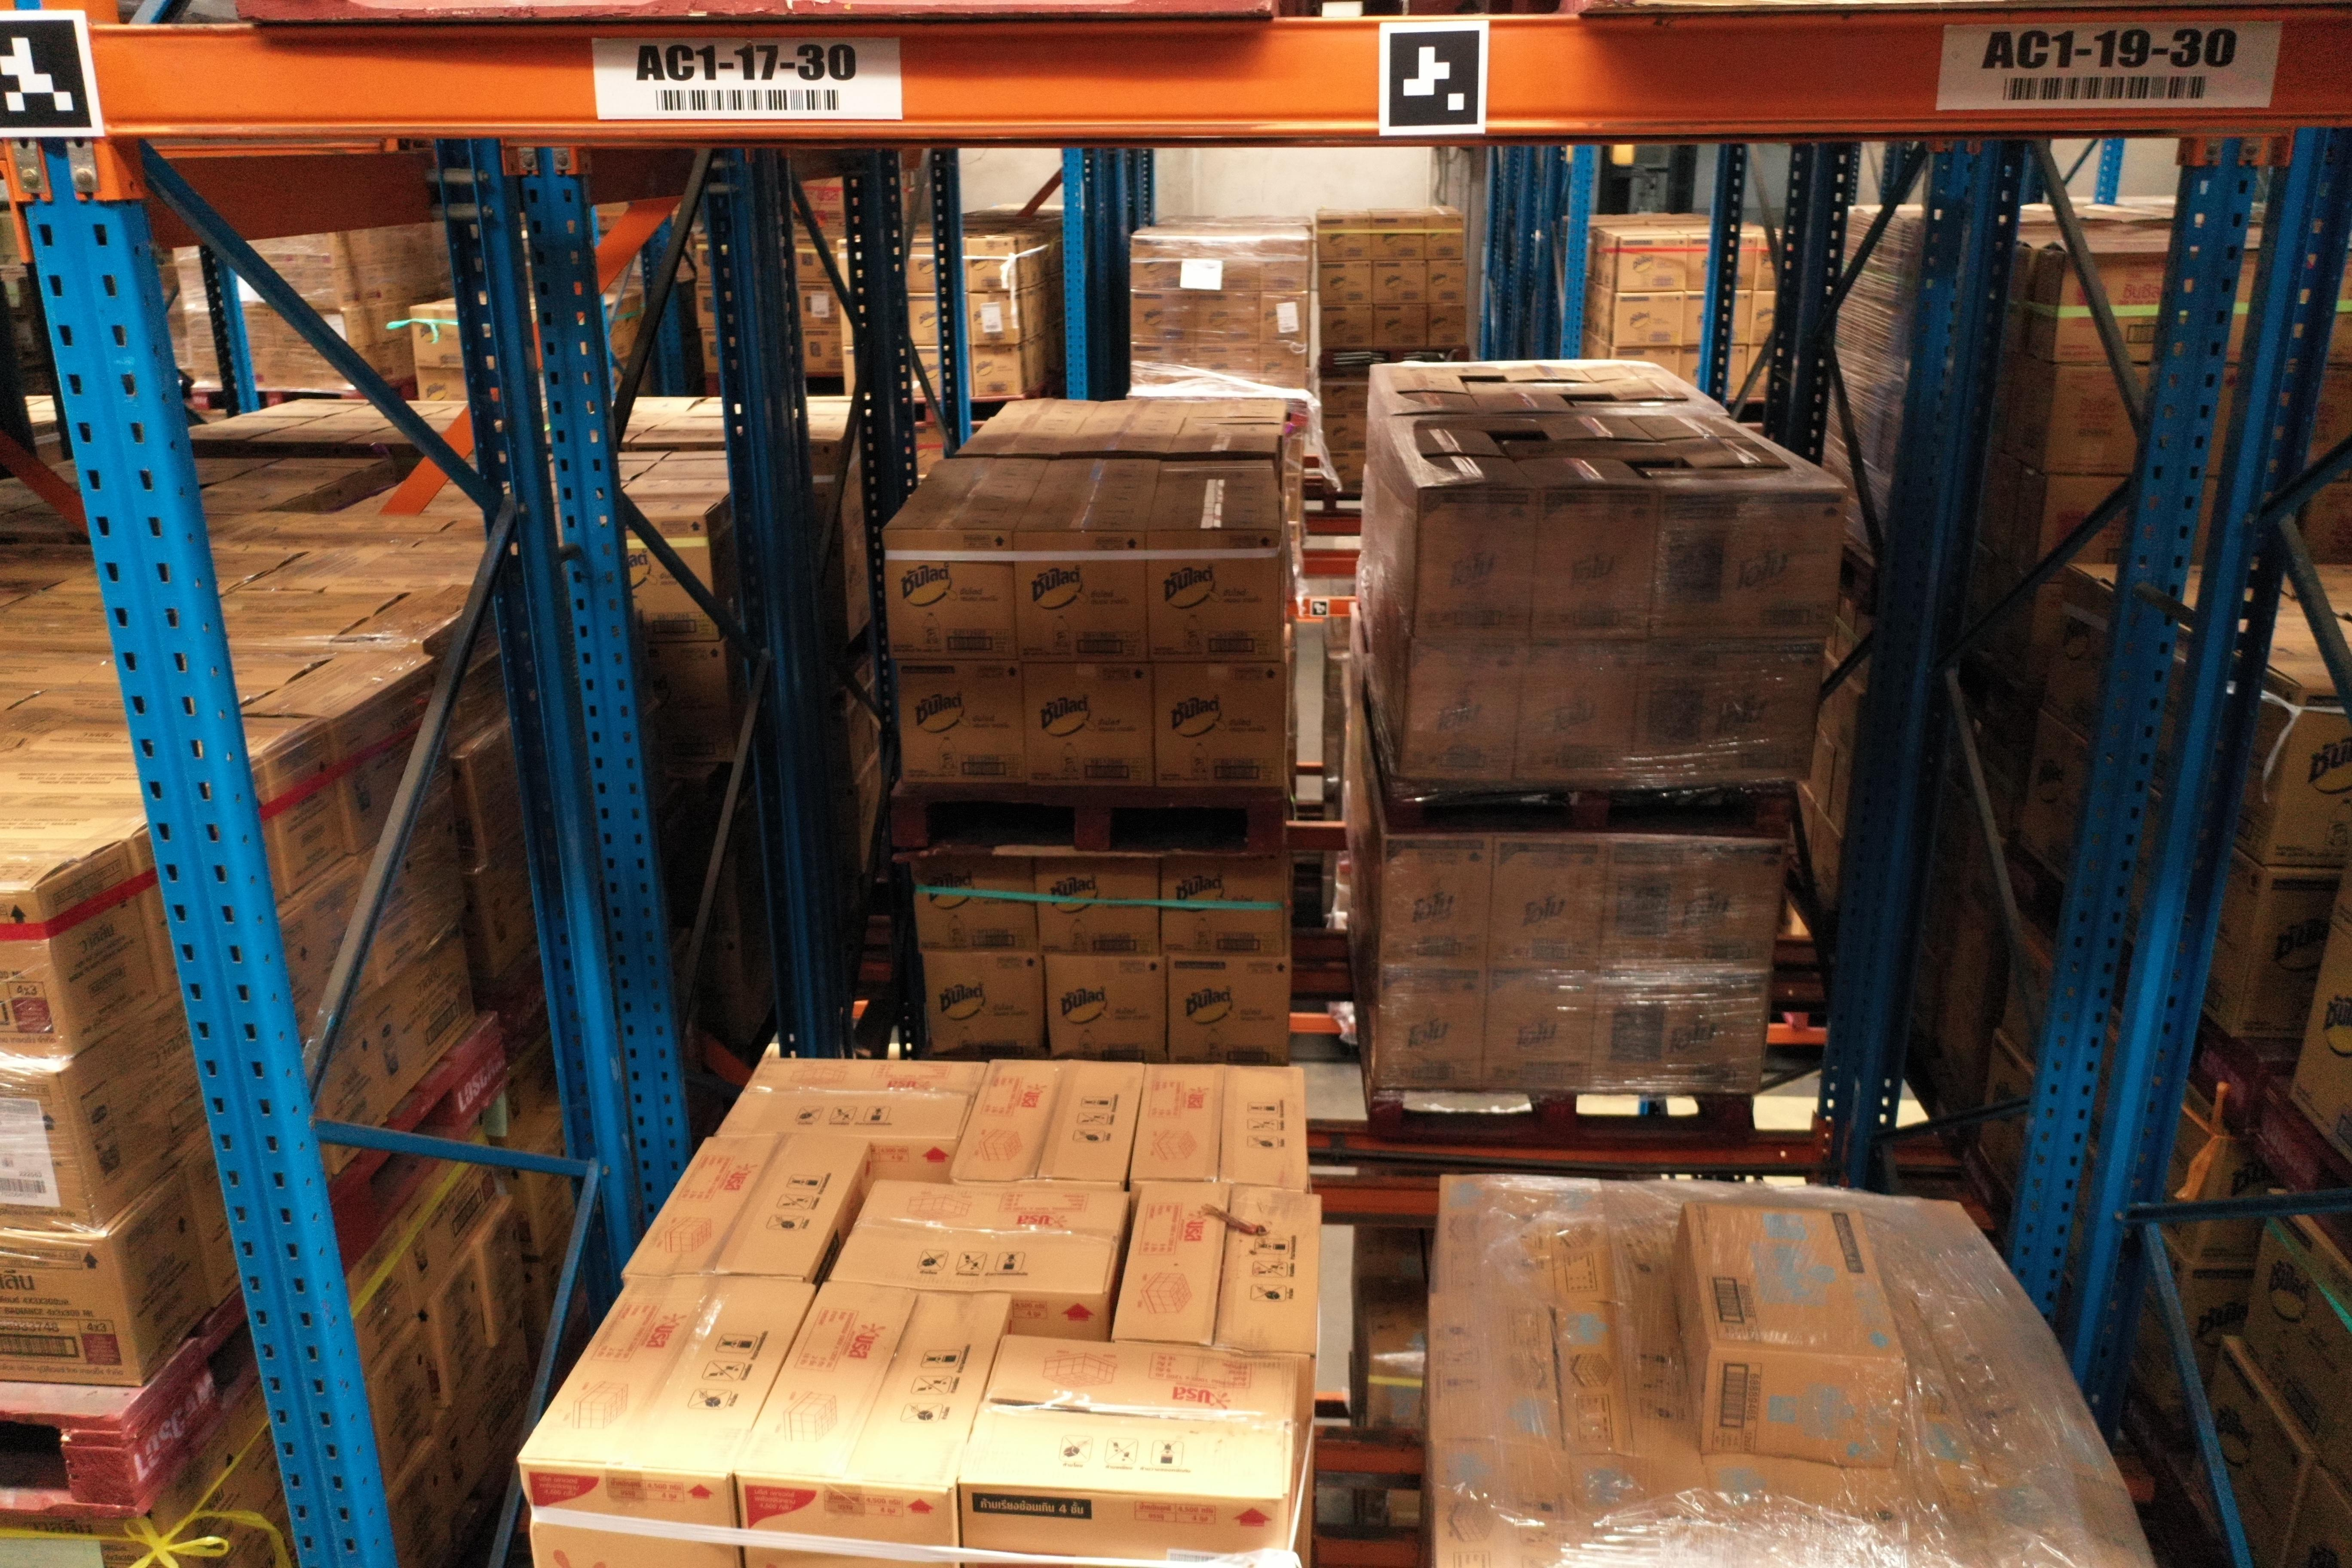-: (959, 1479, 1284, 1568), (1704, 1346, 1911, 1480), (516, 1458, 738, 1568), (0, 1234, 147, 1388), (731, 1473, 955, 1568), (0, 1067, 98, 1235), (0, 887, 68, 1067)
2: (1648, 486, 1850, 646), (1624, 642, 1825, 786), (1601, 833, 1781, 975), (1591, 968, 1766, 1094), (1528, 485, 1661, 644), (1146, 527, 1288, 670), (1414, 486, 1540, 644), (882, 527, 1020, 667), (1015, 525, 1150, 667), (1514, 640, 1643, 786), (1398, 639, 1522, 789), (1489, 835, 1612, 975), (1151, 661, 1286, 787), (1022, 667, 1155, 787), (898, 663, 1025, 787), (1379, 835, 1494, 971), (1377, 966, 1489, 1092), (1484, 971, 1596, 1092), (1039, 955, 1165, 1062), (924, 952, 1048, 1059), (1165, 962, 1288, 1067), (1031, 859, 1160, 957), (1160, 861, 1284, 961), (915, 859, 1038, 955)
